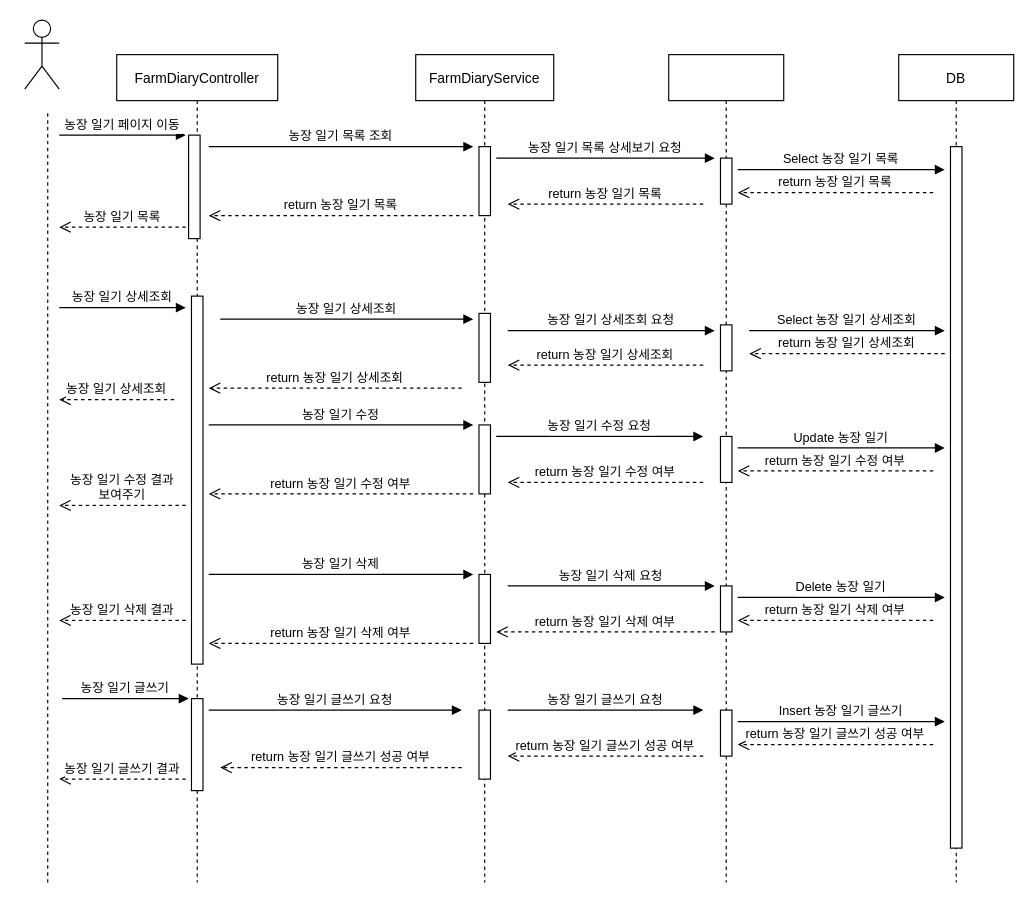
Image size: 1034x904. Some labels were removed from this diagram. Each missing label, with the box of its shape:
FarmDiaryDao: (668, 53, 784, 883)
Farmer: (24, 19, 59, 89)
